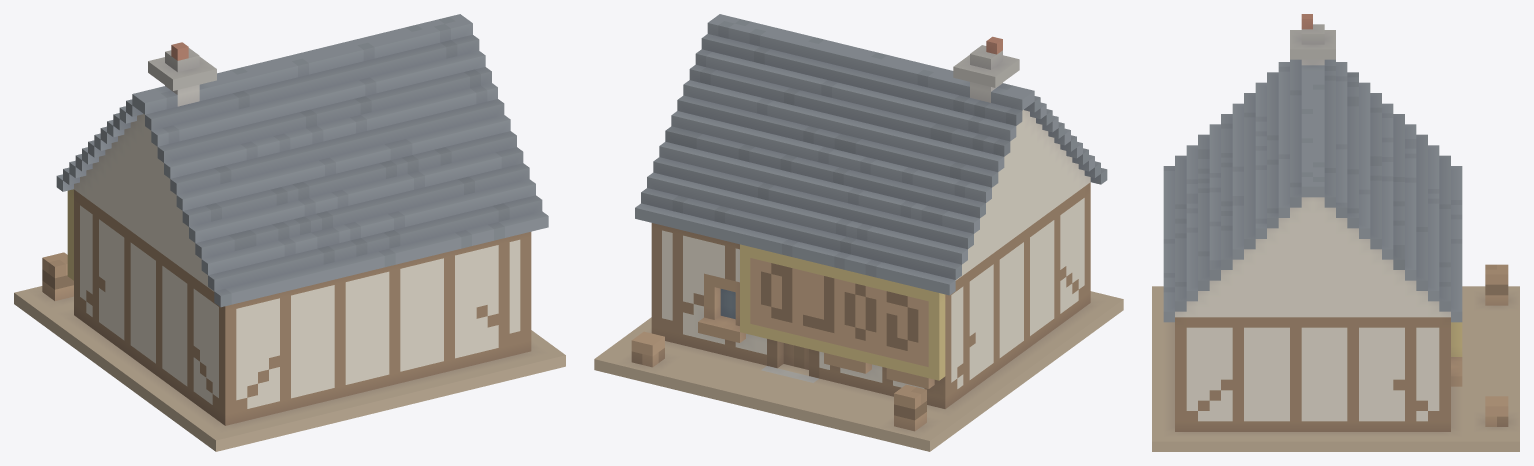
Rendered from goldsmith.glb.
The picture shows the model from 3 angles, left to right: view 1: azimuth 30°, elevation 25°; view 2: azimuth 150°, elevation 25°; view 3: azimuth 270°, elevation 25°; orthographic projection. The views are drawn at different scales.
Visible parts, largest first — view 1: goldsmith; view 2: goldsmith; view 3: goldsmith.
Part boxes in pixels (<box>): goldsmith: <box>14,14,565,451</box>; goldsmith: <box>594,14,1123,451</box>; goldsmith: <box>1152,14,1519,451</box>.
Bounding box in the file's own units: 4 × 3.62 × 4.
